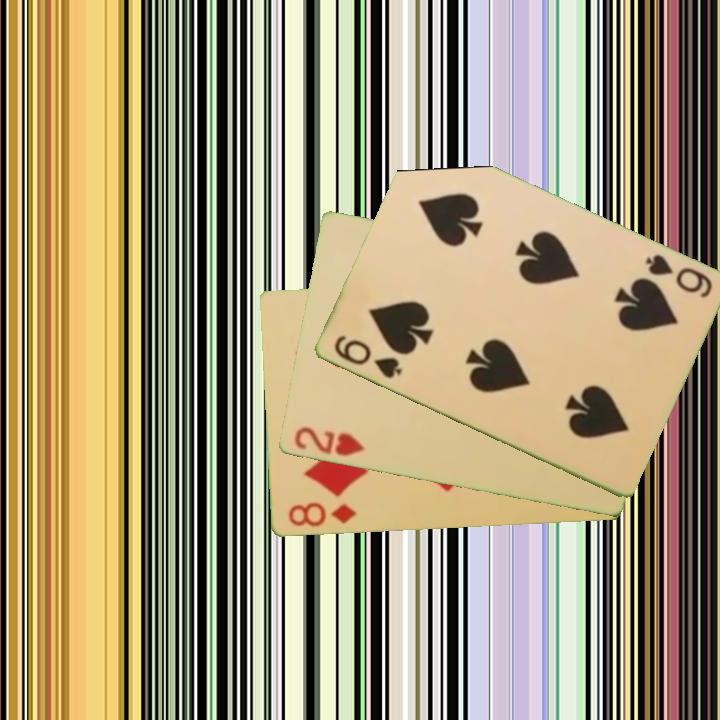2h: (290, 424, 368, 460)
6s: (330, 331, 405, 382), (641, 251, 715, 301)
8d: (285, 499, 359, 530)
